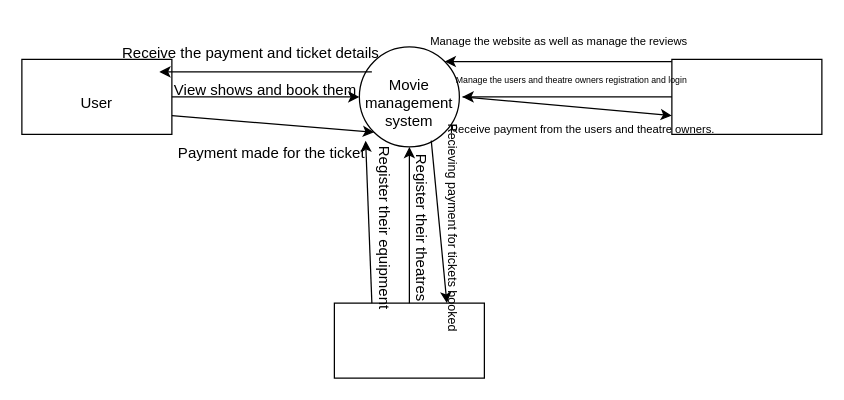
The diagram is 844 pixels wide and 400 high, and some of its shapes have lost their labels. Here are the shapes that lost their labels. From the top down, the centre of each, then its label:
pixel 746 96: Admin
pixel 408 340: Theatre Owner
